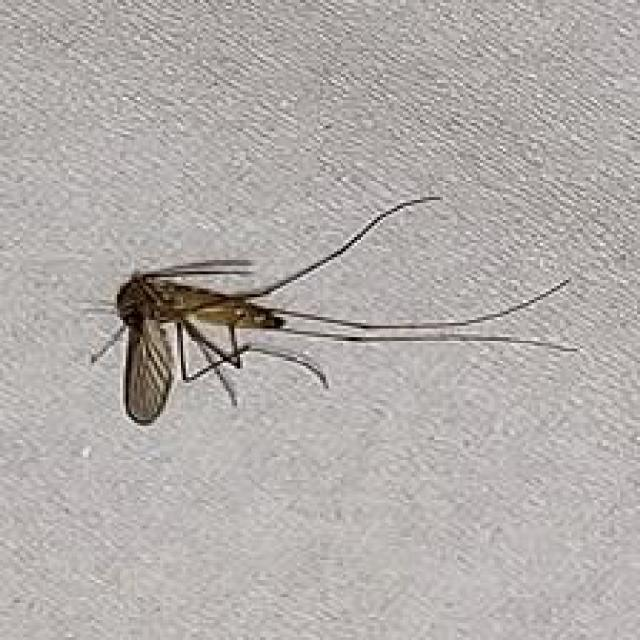Culex: (83, 193, 580, 427)
